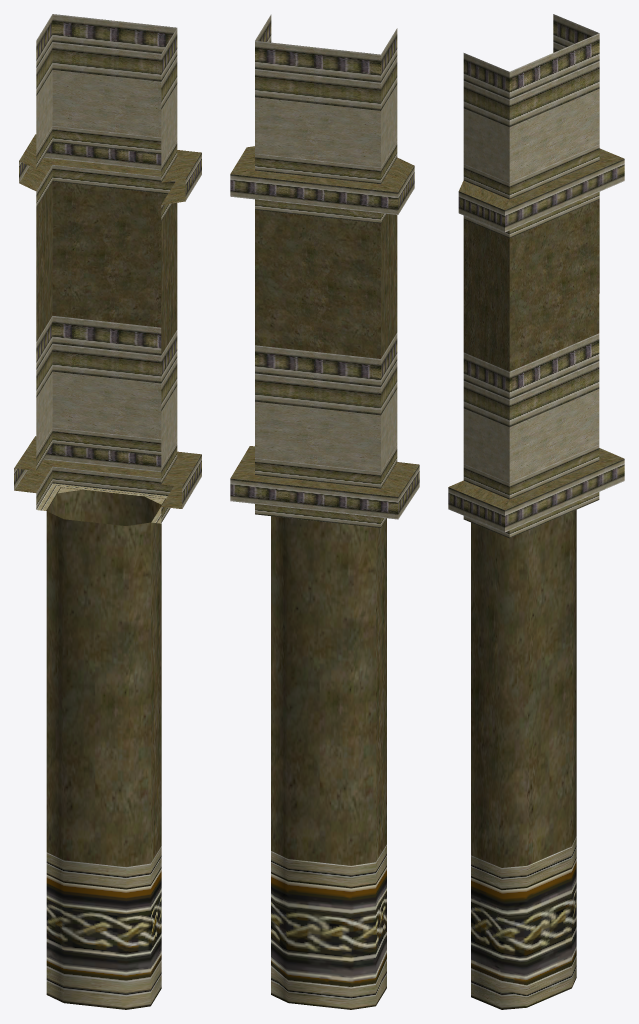
The model's file is CH09_SMAUG_PLAYSURFACE_LAIR61.fbx.
The picture shows the model from 3 angles, left to right: view 1: azimuth 30°, elevation 25°; view 2: azimuth 210°, elevation 25°; view 3: azimuth 270°, elevation 25°; orthographic projection.
Visible parts, largest first — view 1: CH09_SMAUG_PLAYSURFACE_LAIR61; view 2: CH09_SMAUG_PLAYSURFACE_LAIR61; view 3: CH09_SMAUG_PLAYSURFACE_LAIR61.
Boxes of the visible parts, x1=… form: CH09_SMAUG_PLAYSURFACE_LAIR61: x1=14, y1=14, x2=201, y2=1009; CH09_SMAUG_PLAYSURFACE_LAIR61: x1=230, y1=14, x2=419, y2=1009; CH09_SMAUG_PLAYSURFACE_LAIR61: x1=448, y1=14, x2=624, y2=1009.
Size of the model in its own units: 40464 by 237612 by 40088.
Materials: 6 (6 with a texture image).
